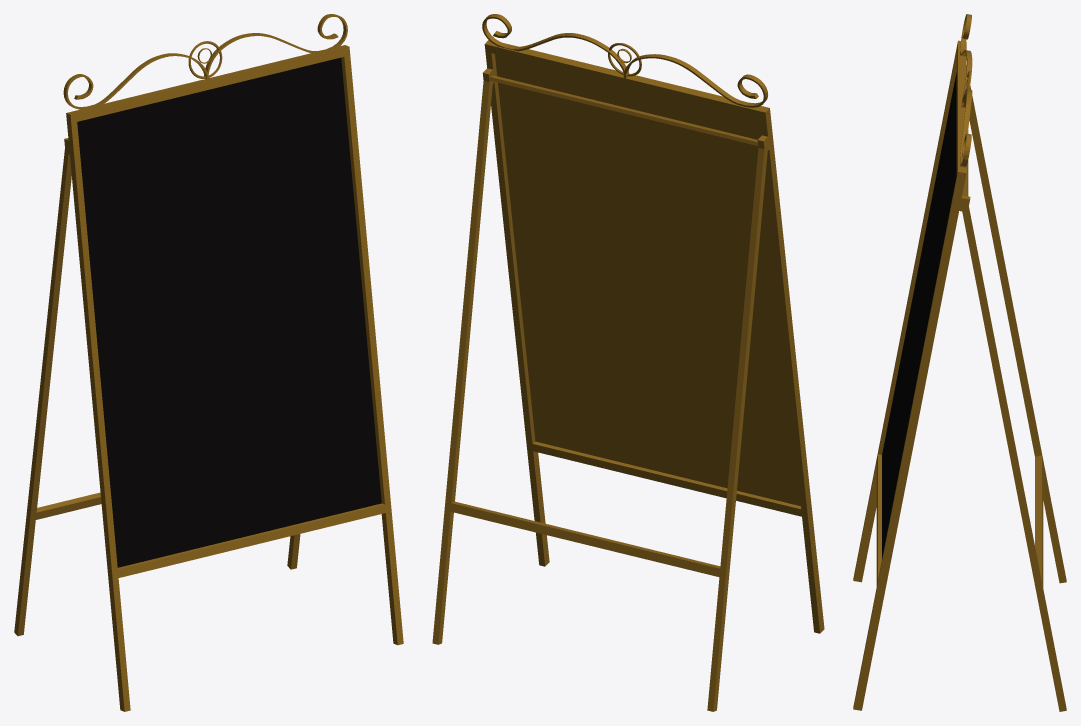
Rendered from AufzugSchildMat.fbx.
The picture shows the model from 3 angles, left to right: view 1: azimuth 30°, elevation 25°; view 2: azimuth 150°, elevation 25°; view 3: azimuth 270°, elevation 25°; orthographic projection. The views are drawn at different scales.
Parts seen in each view (by area): view 1: C-Ext004; view 2: C-Ext004; view 3: C-Ext004.
Boxes of the visible parts, bbox=[...] form: C-Ext004: bbox=[14, 14, 403, 711]; C-Ext004: bbox=[432, 14, 824, 711]; C-Ext004: bbox=[853, 14, 1066, 711].
Size of the model in its own units: 36.37 by 73.47 by 24.74.
